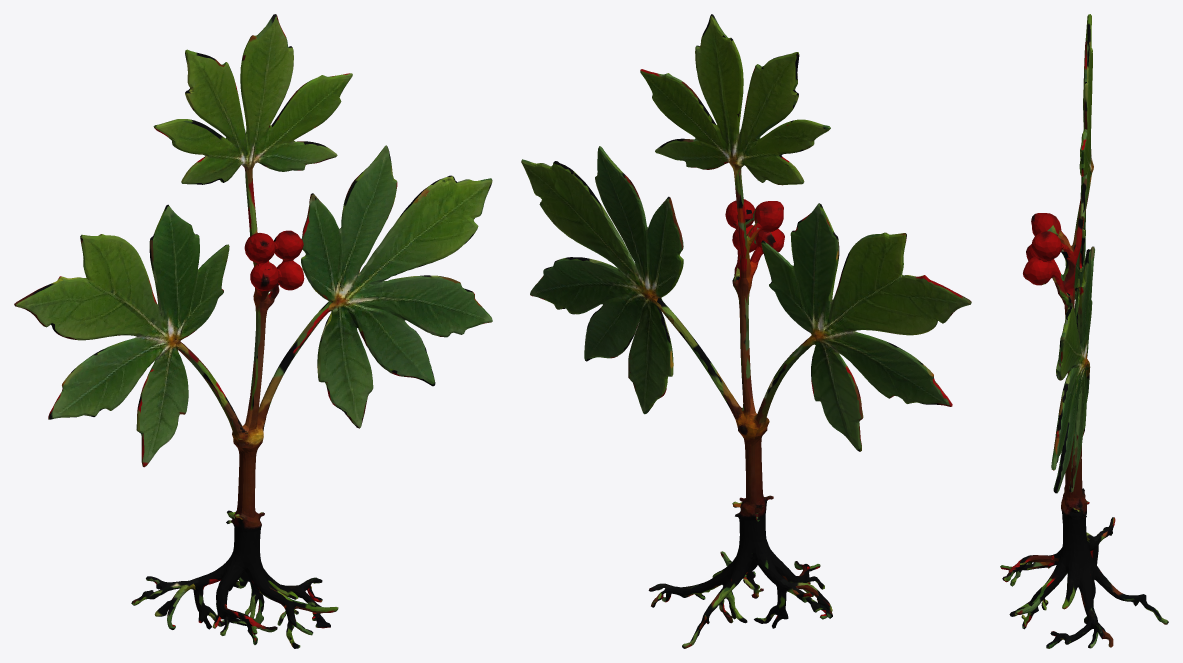
Rendered from traveler_env_coast_cakon_herb_cluster_00001_.glb.
The picture shows the model from 3 angles, left to right: view 1: azimuth 30°, elevation 25°; view 2: azimuth 150°, elevation 25°; view 3: azimuth 270°, elevation 25°; orthographic projection. The views are drawn at different scales.
Parts seen in each view (by area): view 1: temp_mesh.ply; view 2: temp_mesh.ply; view 3: temp_mesh.ply.
Boxes of the visible parts, x1,y1,x2,y2 form: temp_mesh.ply: [14, 14, 492, 648]; temp_mesh.ply: [521, 14, 971, 648]; temp_mesh.ply: [1000, 14, 1168, 648].
Size of the model in its own units: 1.58 by 1.97 by 0.5098.
1 material, 1 textured.
